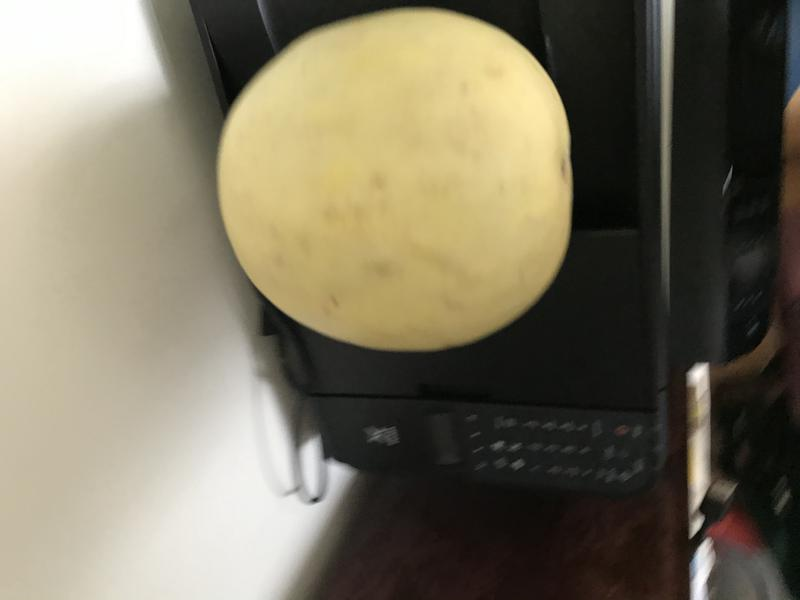honeydew: (211, 2, 582, 363)
